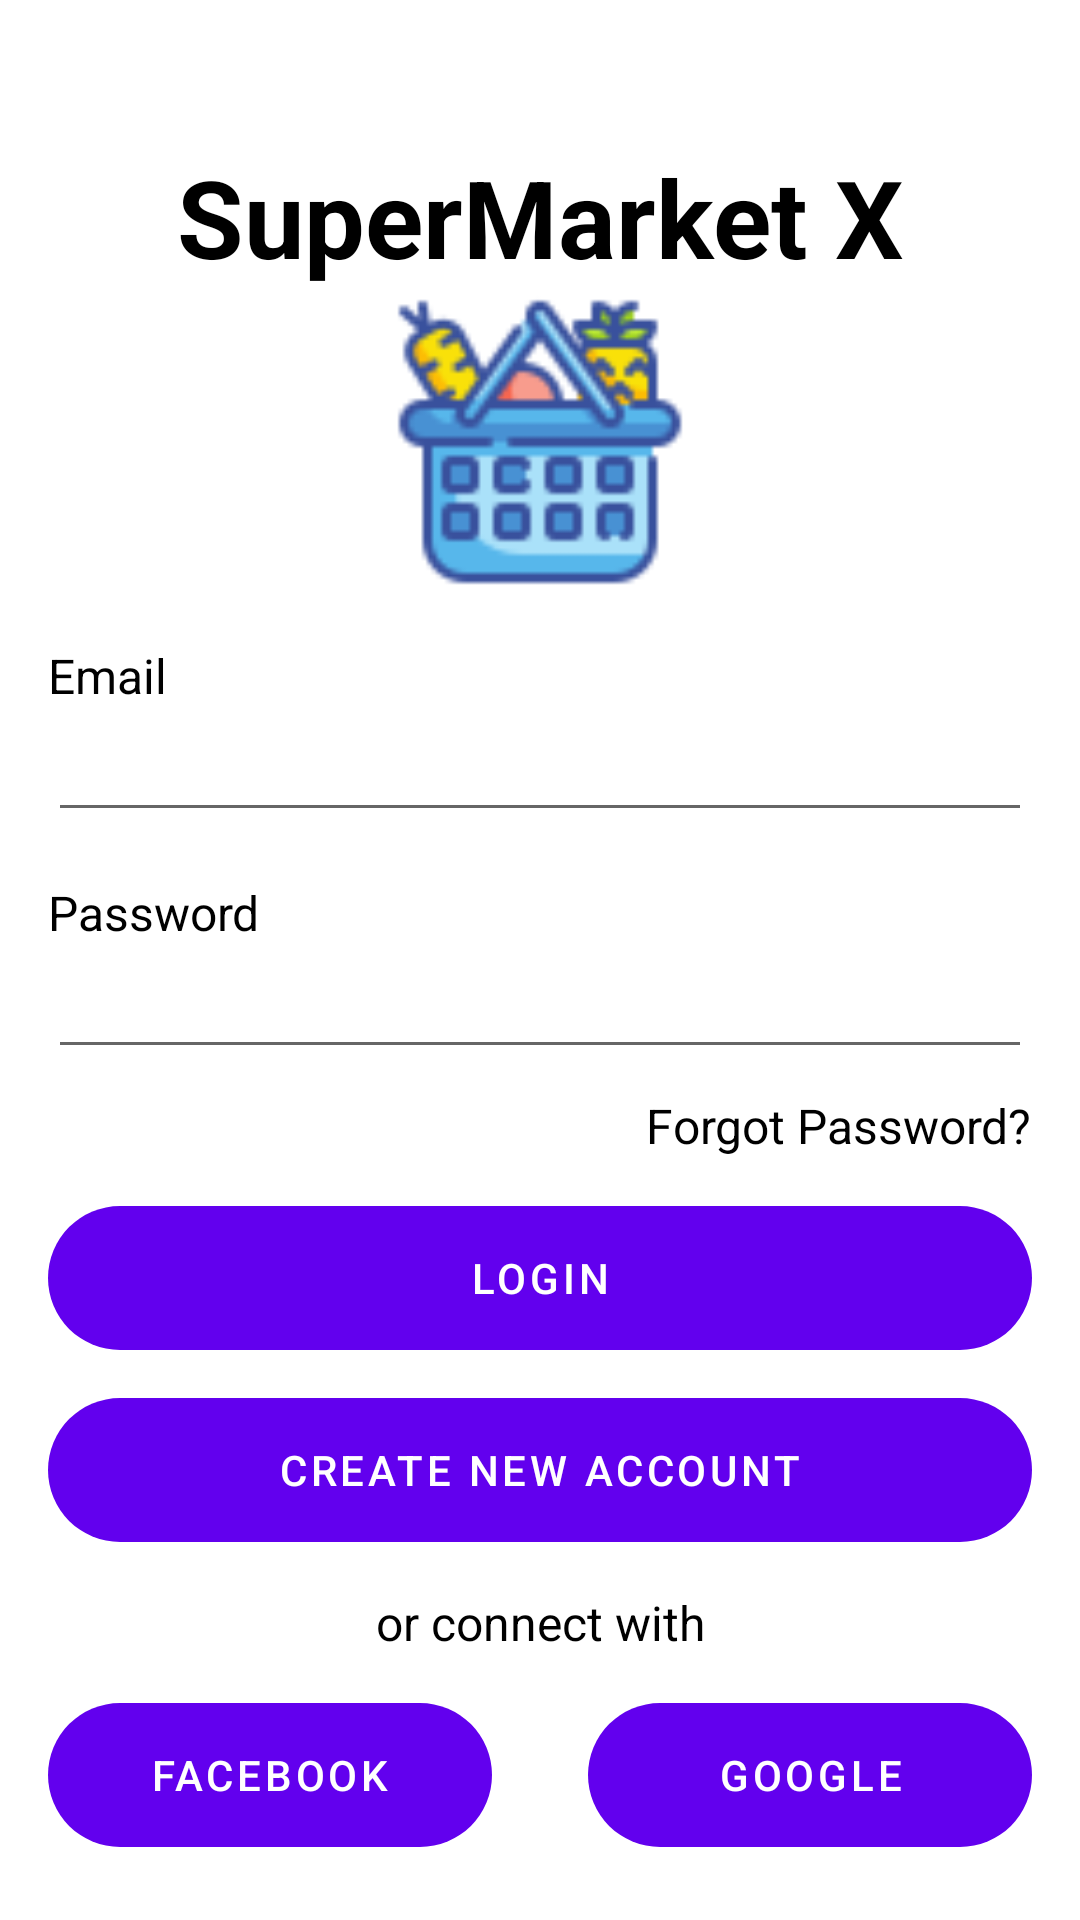

Where to tap for icons on this 1080px×1920px app screen, as [x,y]:
shopping basket: [540,442]
